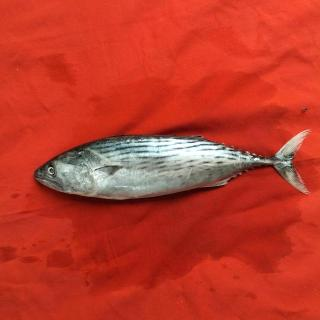Ikan: (33, 125, 315, 213)
